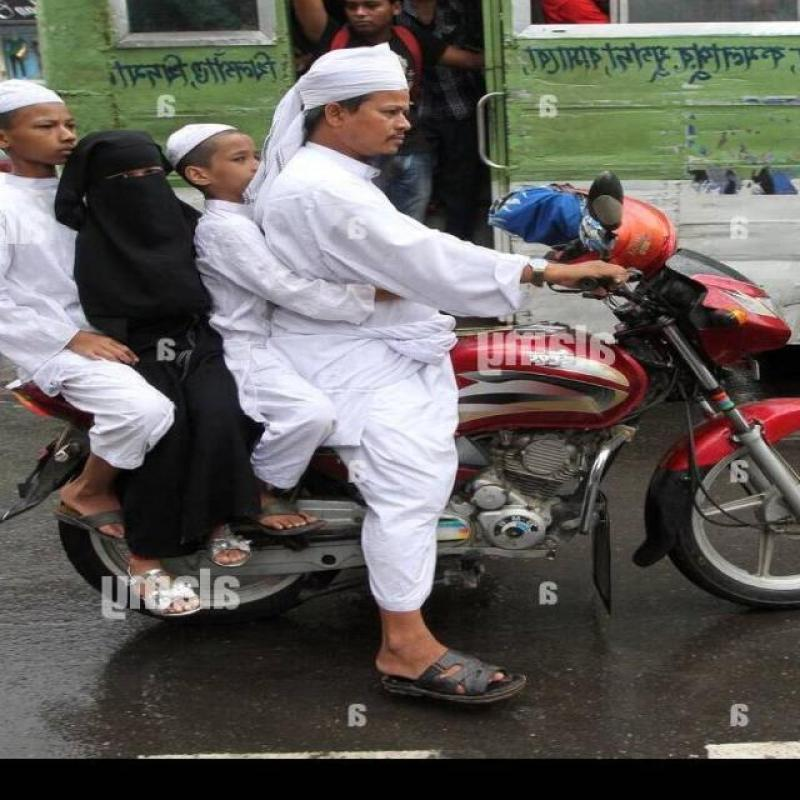nohelmet: (293, 36, 469, 154)
